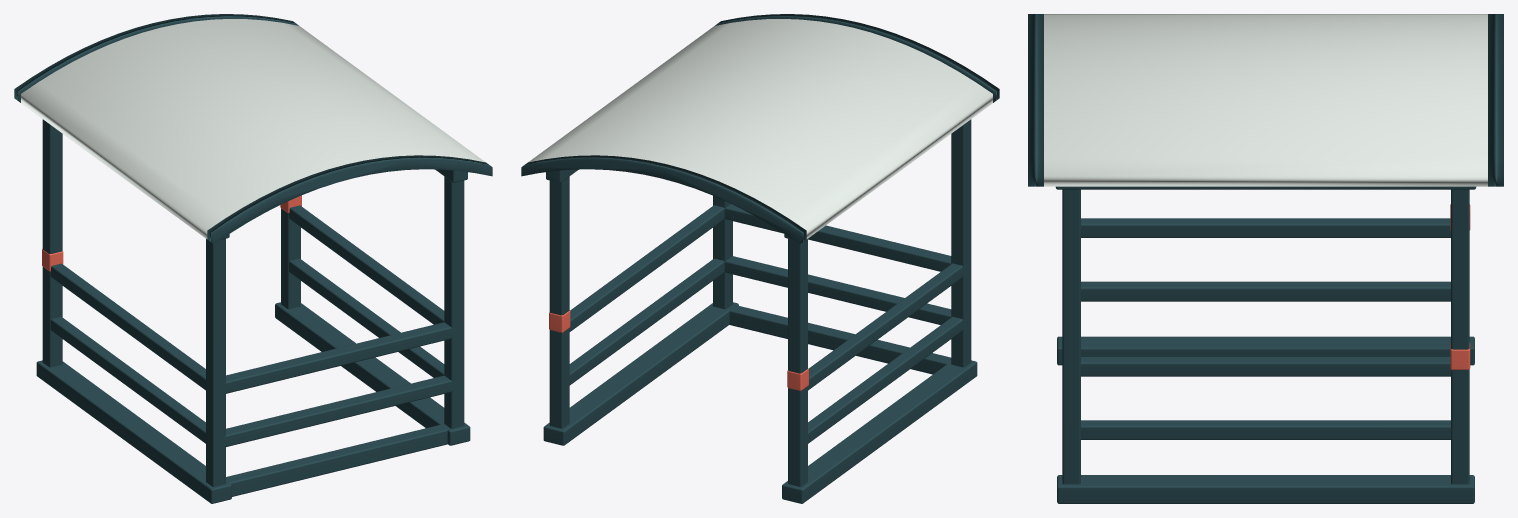
File: d07_trolley_shelter_01.glb
3 views of the same model, side by side, from view 1: azimuth 30°, elevation 25°; view 2: azimuth 150°, elevation 25°; view 3: azimuth 270°, elevation 25° (orthographic). The views are drawn at different scales.
Visible parts, largest first — view 1: D07TrolleyShelter01_Mesh; view 2: D07TrolleyShelter01_Mesh; view 3: D07TrolleyShelter01_Mesh.
Boxes of the visible parts, x1,y1,x2,y2 form: D07TrolleyShelter01_Mesh: [14, 14, 492, 503]; D07TrolleyShelter01_Mesh: [521, 14, 999, 503]; D07TrolleyShelter01_Mesh: [1028, 14, 1503, 503].
Bounding box in the file's own units: 2.9 × 3.11 × 3.6.
